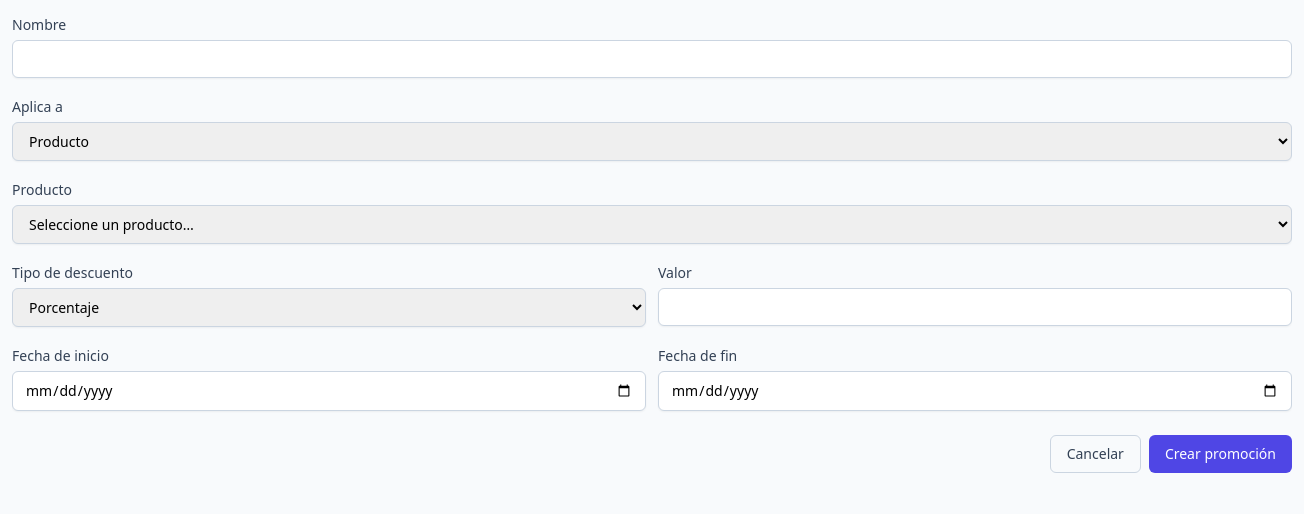
Test: PromotionForm › rechaza una fecha de fin igual o anterior a la de inicio
The width and height of the screenshot is (1304, 514).
In the field labelled "Nombre": [652, 59] box [12,40,1292,78], type "Promo con fechas inválidas"
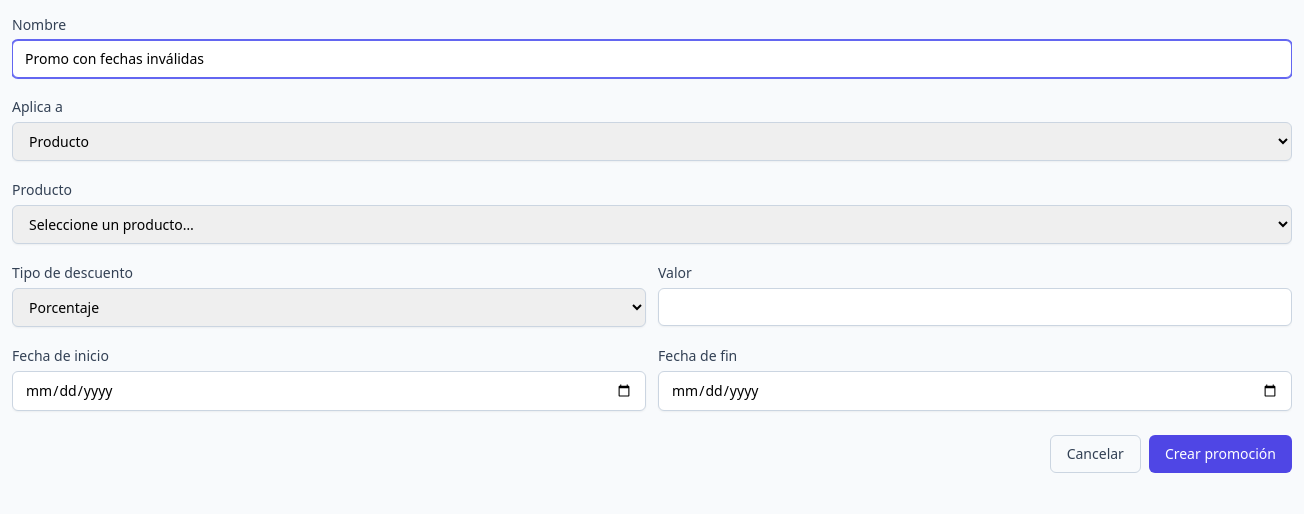
Select "Gaseosa 1.5 L (BEB-001)" in the dropdown labelled "Producto": [652, 224] box [12,205,1292,244]
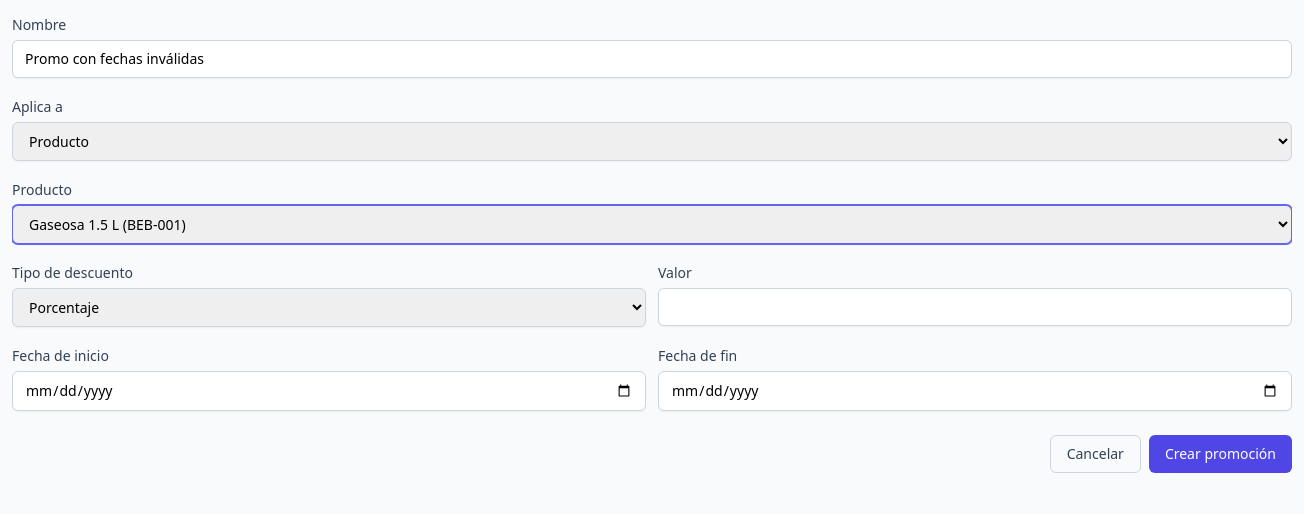
In the number field labelled "Valor": [975, 307] box [658,288,1292,326], type "10"
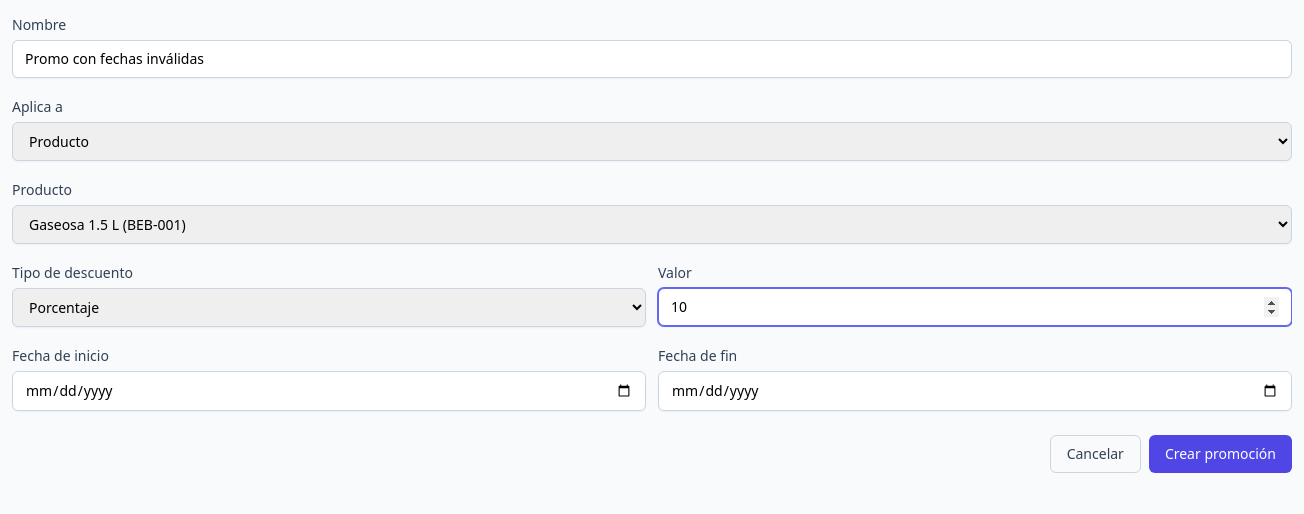
In the date field labelled "Fecha de inicio": [329, 391] box [12,371,646,411], type "2026-06-30"
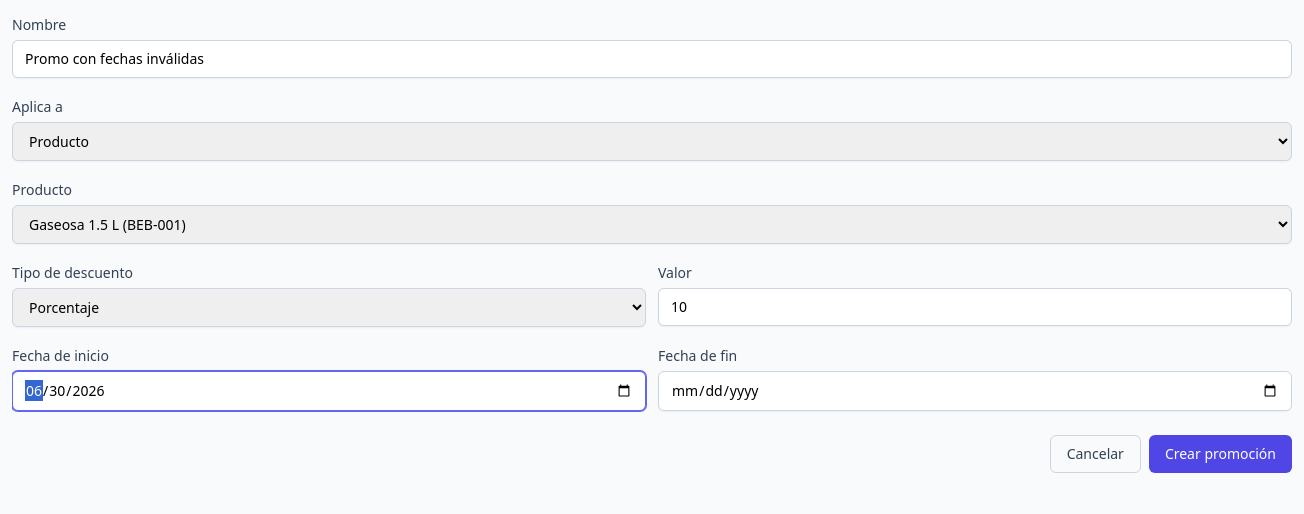
In the date field labelled "Fecha de fin": [975, 391] box [658,371,1292,411], type "2026-06-30"
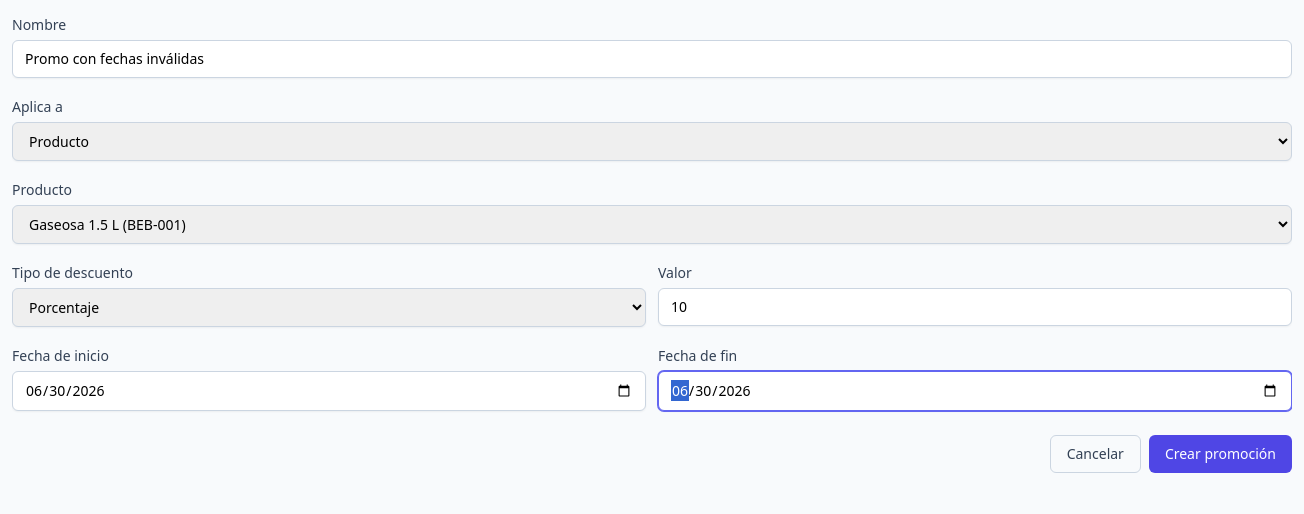
Click the button "Crear promoción": [1220, 454] box [1149,435,1292,473]
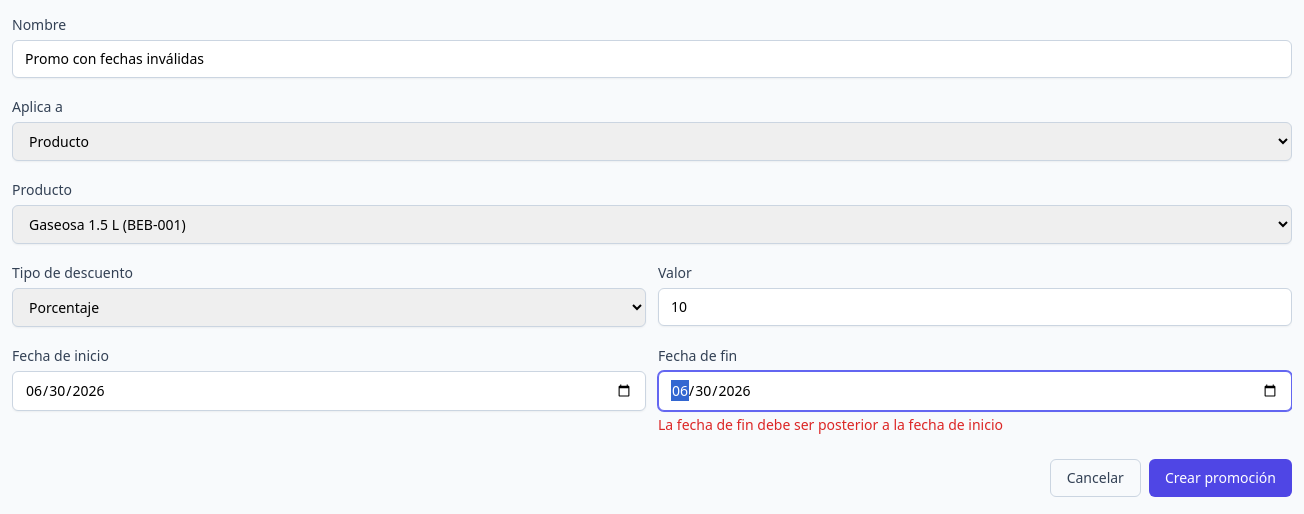
Check: the text "La fecha de fin debe ser posterior a la fecha de inicio" is shown, box [658,415,1003,434]
